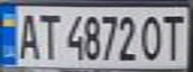2: (115, 11, 142, 62)
4: (60, 10, 84, 61)
7: (100, 11, 121, 62)
8: (81, 11, 103, 61)
A: (12, 9, 42, 61)
O: (139, 11, 166, 62)
T: (160, 11, 187, 61), (36, 9, 60, 61)
